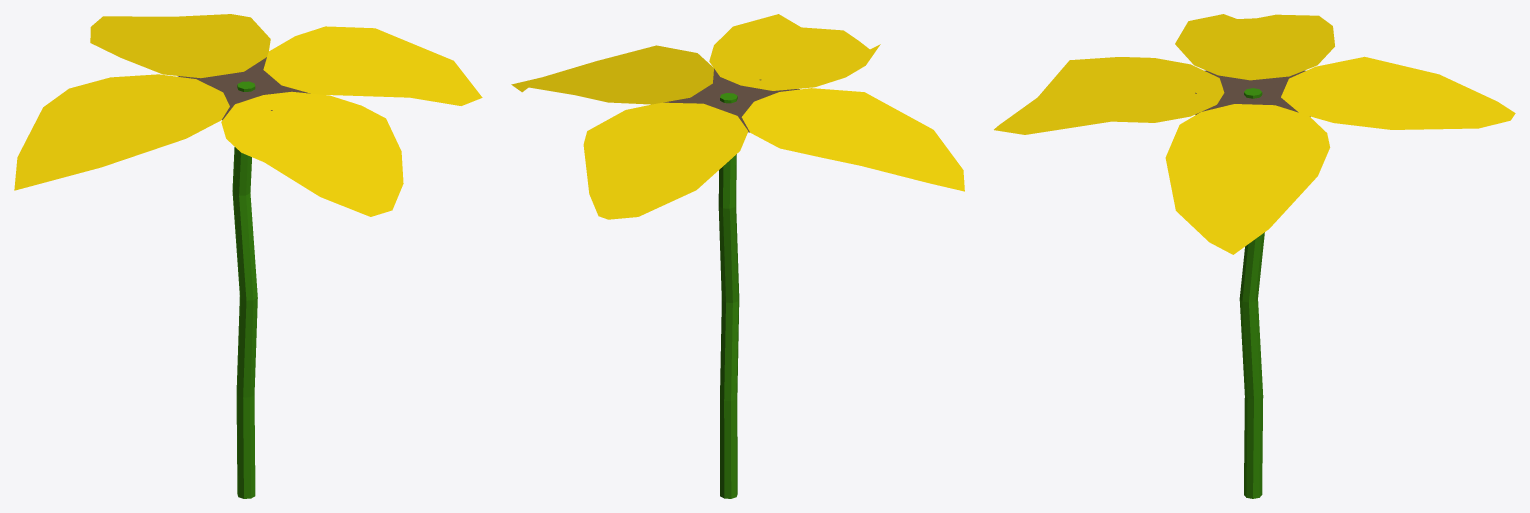
Rendered from yellow_flower.glb.
3 renders of one model, left to right at view 1: azimuth 30°, elevation 25°; view 2: azimuth 150°, elevation 25°; view 3: azimuth 270°, elevation 25°, orthographic. The views are drawn at different scales.
Visible parts, largest first — view 1: BézierCircle.003; view 2: BézierCircle.003; view 3: BézierCircle.003.
Boxes of the visible parts, box(x1,y1,x2,y2) form: BézierCircle.003: box(14, 14, 482, 498); BézierCircle.003: box(511, 14, 964, 498); BézierCircle.003: box(994, 14, 1515, 498).
Size of the model in its own units: 0.5054 by 0.4335 by 0.5056.
1 material, 1 textured.
